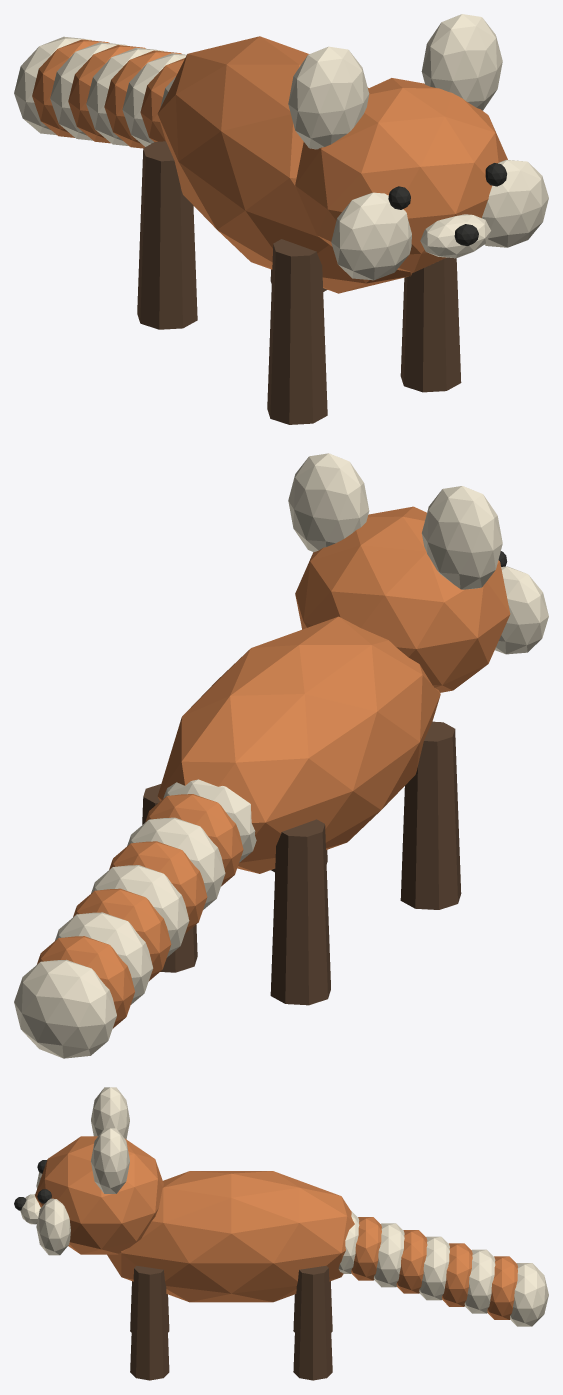
Rendered from zoo-red-panda.glb.
The picture shows the model from 3 angles, top to bottom: view 1: azimuth 30°, elevation 25°; view 2: azimuth 150°, elevation 25°; view 3: azimuth 270°, elevation 25°; orthographic projection. The views are drawn at different scales.
Parts seen in each view (by area): view 1: Rust coat, Face, Dark legs, Dark legs.001, Dark legs.002, Ear.004, Ear.005, Cream cheek, Cream cheek.001, Muzzle.001, Ringed fluffy tail.005, Ringed fluffy tail.006 (+6 smaller); view 2: Rust coat, Face, Dark legs.001, Dark legs, Ringed fluffy tail.008, Ear.004, Ear.005, Ringed fluffy tail.003, Ringed fluffy tail.002, Ringed fluffy tail.004, Ringed fluffy tail.007, Ringed fluffy tail.006 (+5 smaller); view 3: Rust coat, Face, Dark legs.002, Dark legs.003, Ear.005, Ringed fluffy tail.008, Cream cheek.001, Ringed fluffy tail.004, Ringed fluffy tail.002, Ear.004, Ringed fluffy tail.006, Ringed fluffy tail.007 (+5 smaller).
Boxes of the visible parts, box(x1,y1,x2,y2) form: Rust coat: box(157, 36, 412, 293); Face: box(295, 78, 507, 272); Dark legs: box(267, 239, 327, 424); Dark legs.001: box(137, 141, 197, 329); Dark legs.002: box(400, 257, 461, 392); Ear.004: box(288, 46, 369, 149); Ear.005: box(421, 14, 502, 110); Cream cheek: box(331, 192, 411, 280); Cream cheek.001: box(482, 159, 548, 247); Muzzle.001: box(420, 214, 490, 258); Ringed fluffy tail.005: box(68, 45, 145, 143); Ringed fluffy tail.006: box(50, 42, 127, 140); Rust coat: box(157, 616, 440, 873); Face: box(295, 506, 510, 692); Dark legs.001: box(270, 819, 330, 1005); Dark legs: box(400, 721, 461, 909); Ringed fluffy tail.008: box(14, 959, 116, 1058); Ear.004: box(421, 486, 502, 589); Ear.005: box(288, 453, 369, 551); Ringed fluffy tail.003: box(109, 841, 207, 933); Ringed fluffy tail.002: box(127, 817, 225, 909); Ringed fluffy tail.004: box(91, 865, 189, 957); Ringed fluffy tail.007: box(37, 936, 134, 1028); Ringed fluffy tail.006: box(55, 912, 153, 1004); Rust coat: box(107, 1171, 354, 1302); Face: box(35, 1136, 163, 1254); Dark legs.002: box(130, 1265, 169, 1380); Dark legs.003: box(293, 1265, 332, 1380); Ear.005: box(91, 1128, 129, 1193); Ringed fluffy tail.008: box(510, 1263, 548, 1326); Cream cheek.001: box(36, 1198, 70, 1255); Ringed fluffy tail.004: box(419, 1236, 449, 1300); Ringed fluffy tail.002: box(374, 1223, 404, 1287); Ear.004: box(91, 1087, 129, 1139); Ringed fluffy tail.006: box(464, 1249, 495, 1313); Ringed fluffy tail.007: box(487, 1256, 517, 1319).
Bounding box in the file's own units: 0.5007 × 0.89 × 1.77.
